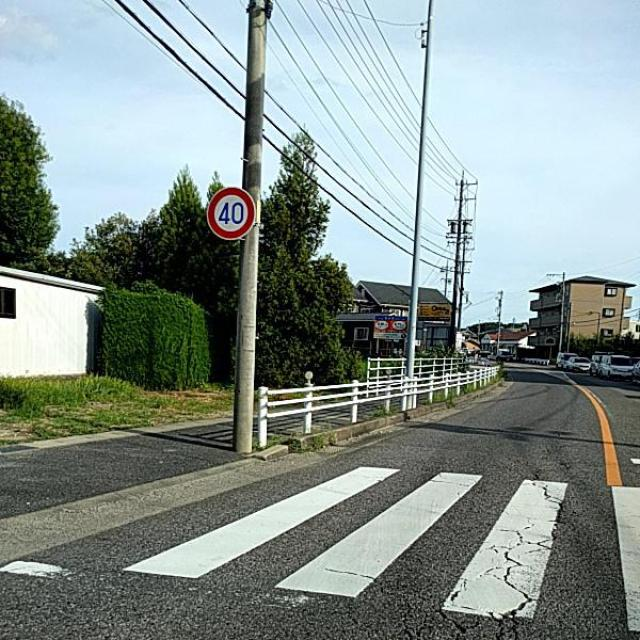Crack: (446, 380, 601, 640)
